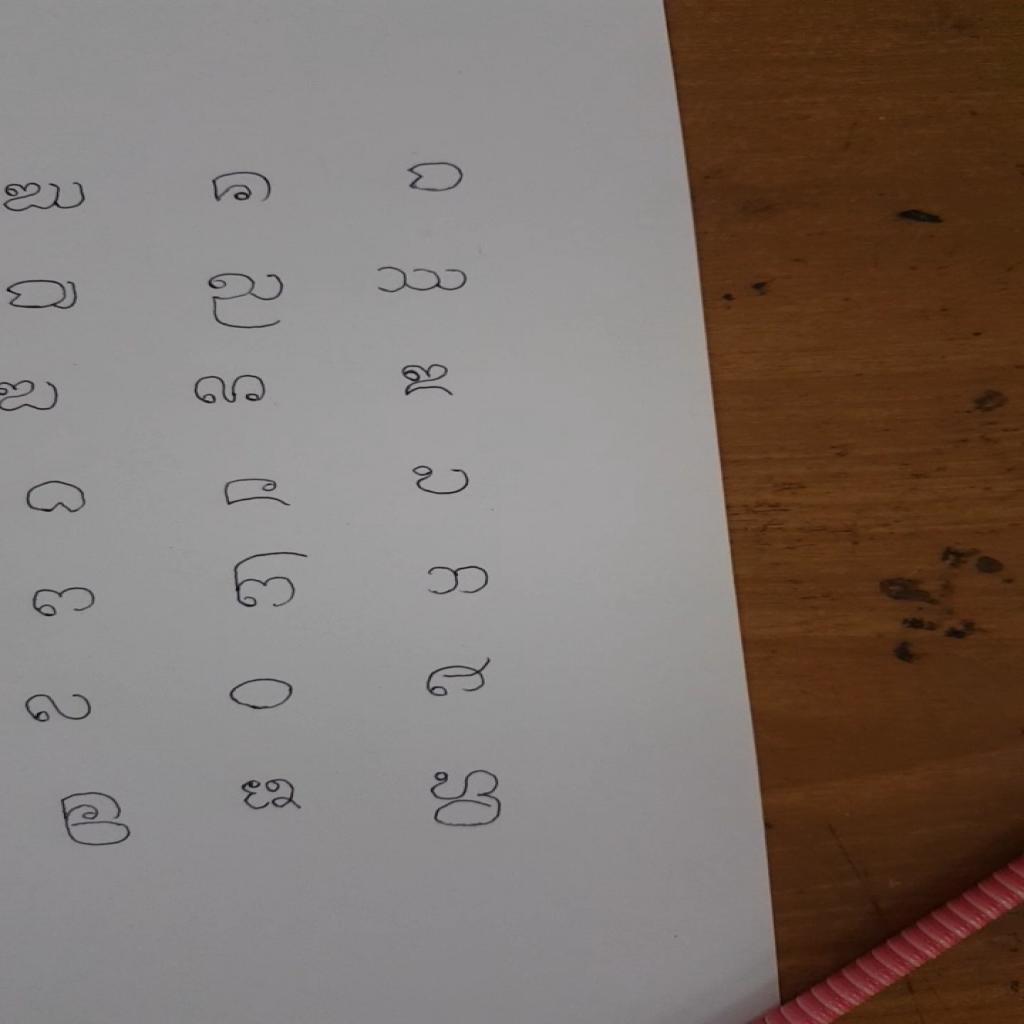LN004: (1, 179, 94, 216)
LN005: (207, 169, 280, 208)
LN006: (404, 160, 468, 198)
LN010: (1, 276, 89, 314)
LN011: (202, 270, 293, 334)
LN012: (369, 264, 474, 299)
LN017: (187, 372, 276, 410)
LN018: (395, 361, 458, 401)
LN022: (21, 477, 94, 518)
LN023: (219, 475, 298, 511)
LN024: (408, 464, 475, 499)
LN028: (27, 585, 104, 621)
LN029: (228, 550, 317, 614)
LN030: (423, 563, 495, 601)
LN034: (21, 691, 101, 728)
LN035: (224, 676, 304, 716)
LN036: (420, 654, 499, 702)
LN040: (55, 790, 139, 852)
LN041: (235, 776, 309, 815)
LN042: (426, 767, 508, 832)
